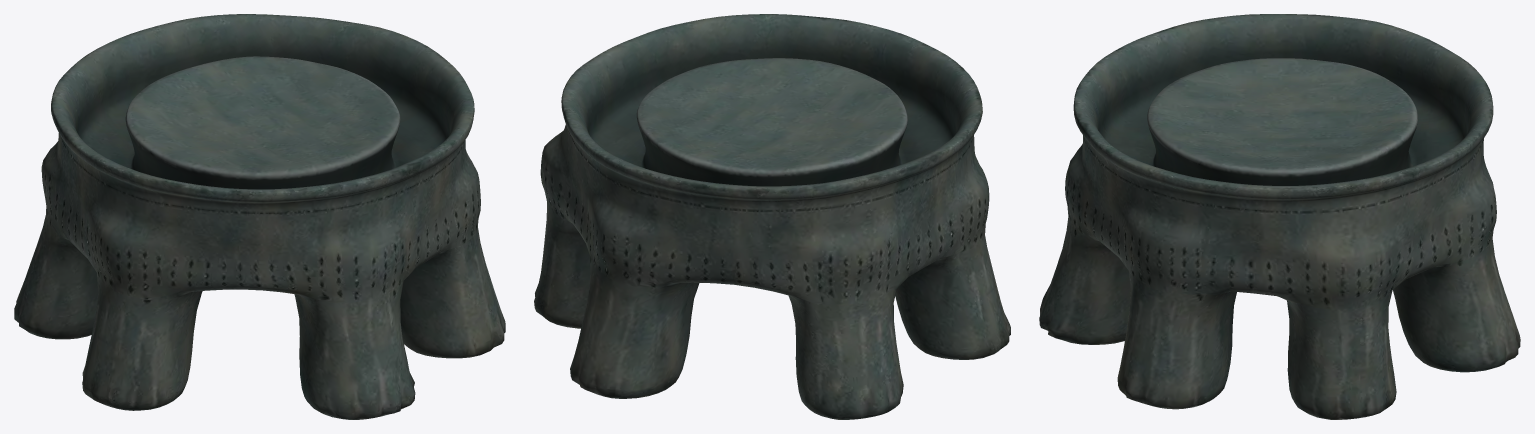
File: ink.glb
3 views of the same model, side by side, from view 1: azimuth 30°, elevation 25°; view 2: azimuth 150°, elevation 25°; view 3: azimuth 270°, elevation 25° (orthographic).
Parts seen in each view (by area): view 1: SM_HO20012_M_HO20012_0; view 2: SM_HO20012_M_HO20012_0; view 3: SM_HO20012_M_HO20012_0.
Part boxes in pixels (box(x1,y1,x2,y2)): SM_HO20012_M_HO20012_0: box(14, 14, 505, 419); SM_HO20012_M_HO20012_0: box(534, 14, 1010, 419); SM_HO20012_M_HO20012_0: box(1039, 14, 1520, 419).
Size of the model in its own units: 0.1395 by 0.075 by 0.1443.
1 material, 1 textured.
